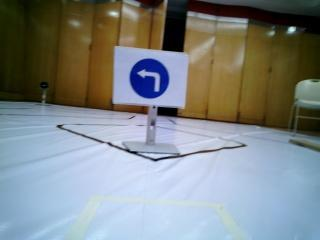left: (120, 50, 180, 106)
